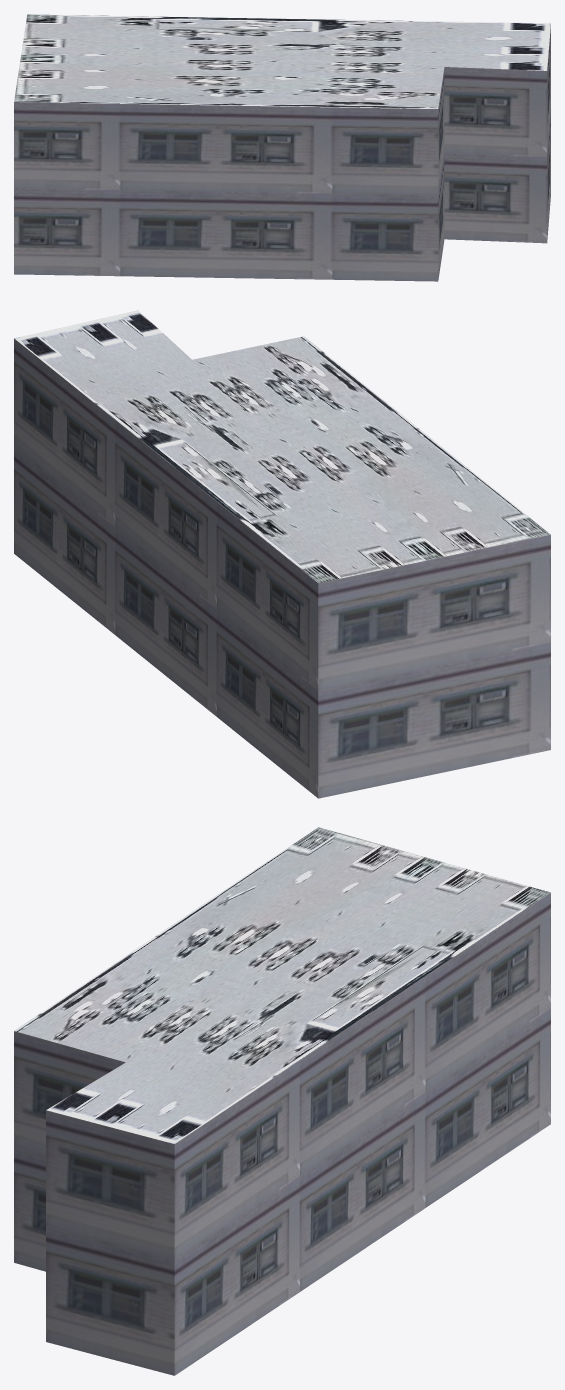
File: ResTex__2047.fbx
The picture shows the model from 3 angles, top to bottom: view 1: azimuth 30°, elevation 25°; view 2: azimuth 150°, elevation 25°; view 3: azimuth 270°, elevation 25°; orthographic projection. The views are drawn at different scales.
Visible parts, largest first — view 1: CityEngineMaterial_1_m, CityEngineMaterial_8_m; view 2: CityEngineMaterial_1_m, CityEngineMaterial_8_m; view 3: CityEngineMaterial_1_m, CityEngineMaterial_8_m.
Boxes of the visible parts, x1,y1,x2,y2 form: CityEngineMaterial_1_m: (14, 25, 550, 281); CityEngineMaterial_8_m: (14, 14, 550, 108); CityEngineMaterial_1_m: (14, 338, 550, 798); CityEngineMaterial_8_m: (14, 310, 550, 583); CityEngineMaterial_1_m: (14, 893, 550, 1375); CityEngineMaterial_8_m: (14, 827, 550, 1143).
Bounding box in the file's own units: 17.61 × 6 × 12.6.
Materials: 2 (2 with a texture image).
